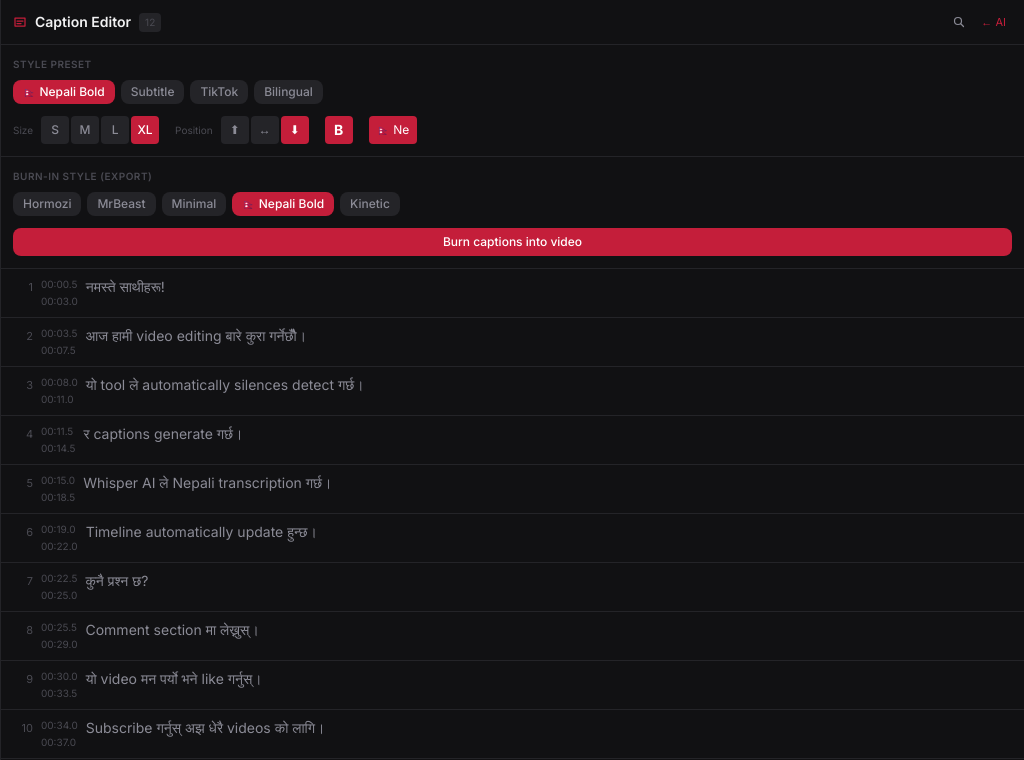
Test case: SubtitleEditorPanel — find/replace › close button hides the find/replace bar
The image size is (1024, 760).
Click the button with test id "open-find-replace": [959, 22] box top-left (947, 10), bottom-right (971, 34)
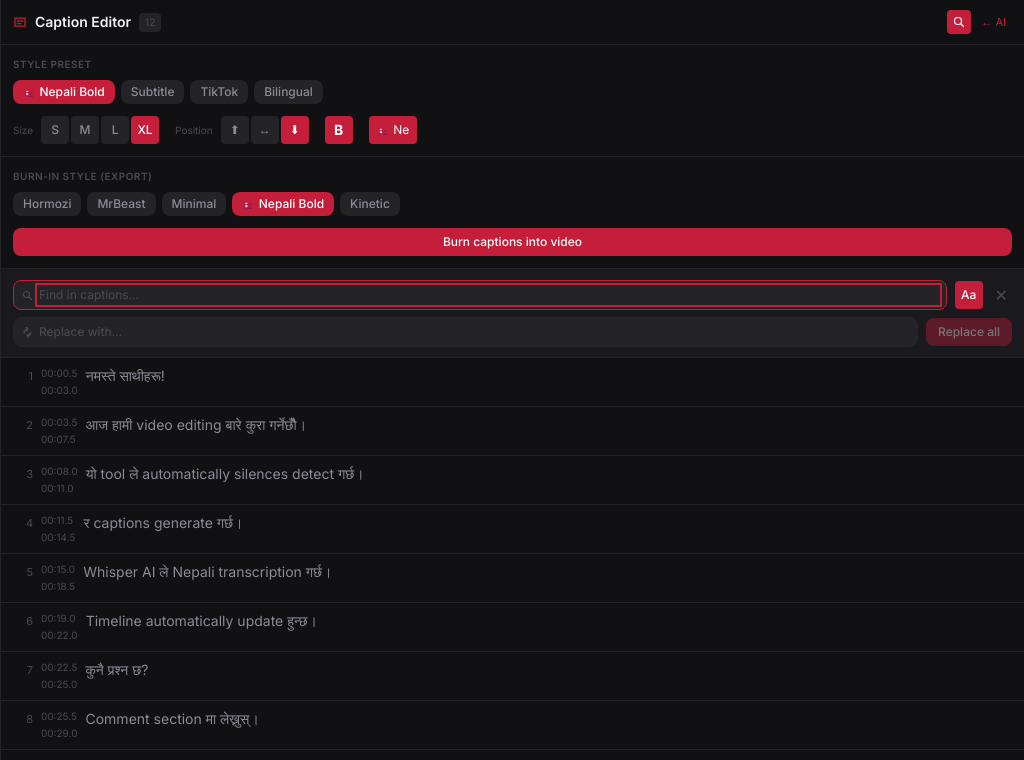
Click the button with test id "find-replace-close": [1001, 295] box top-left (991, 279), bottom-right (1012, 311)
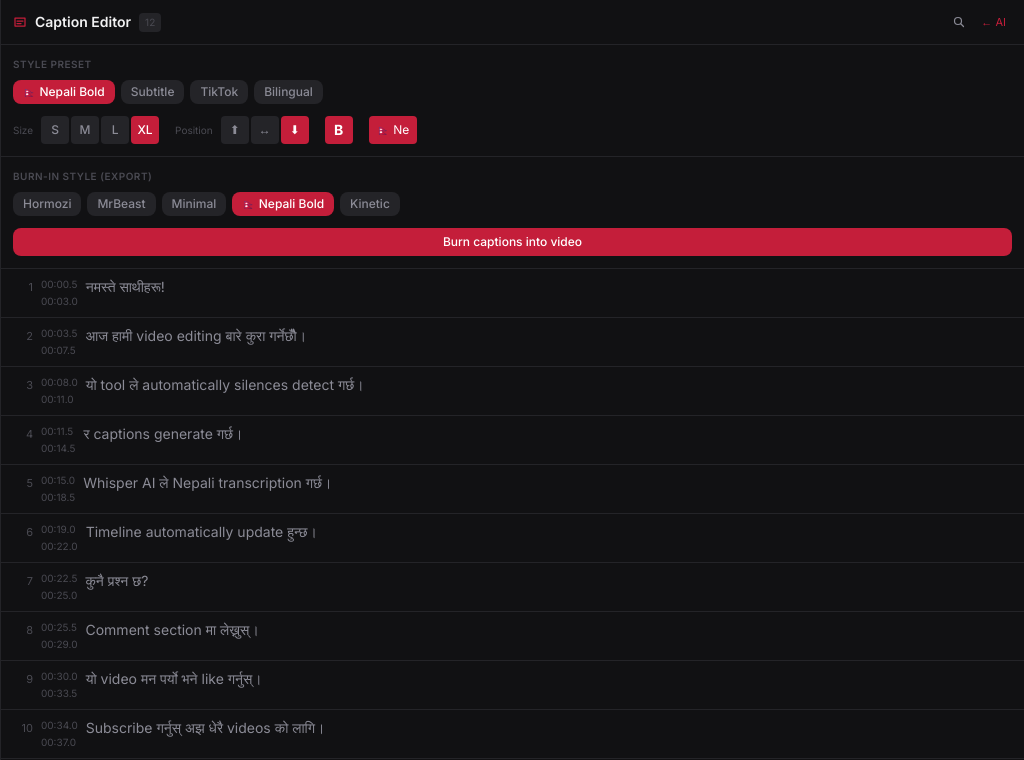
Result: the element with test id "find-replace-bar" is gone
